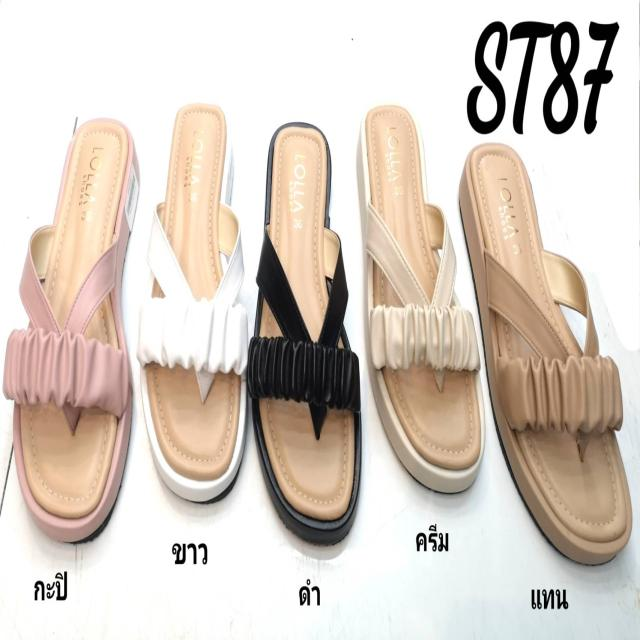black: (250, 124, 362, 536)
cream: (356, 108, 489, 502)
kapi: (18, 113, 134, 542)
tan: (460, 131, 638, 569)
white: (142, 106, 248, 497)
